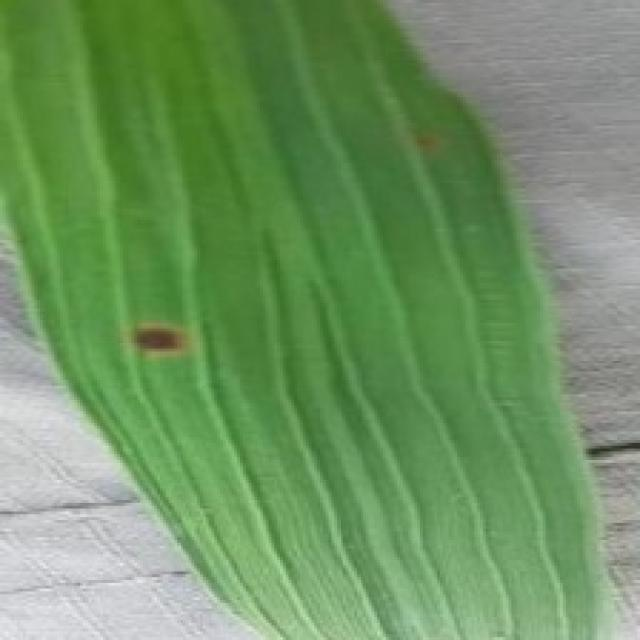Rice___Brown_Spot: (1, 0, 604, 637)
